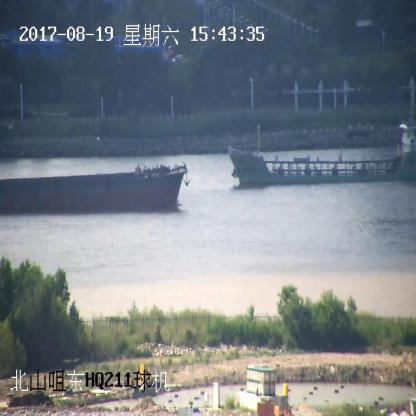Bulk Carrier: (228, 126, 415, 188), (0, 162, 188, 214)
